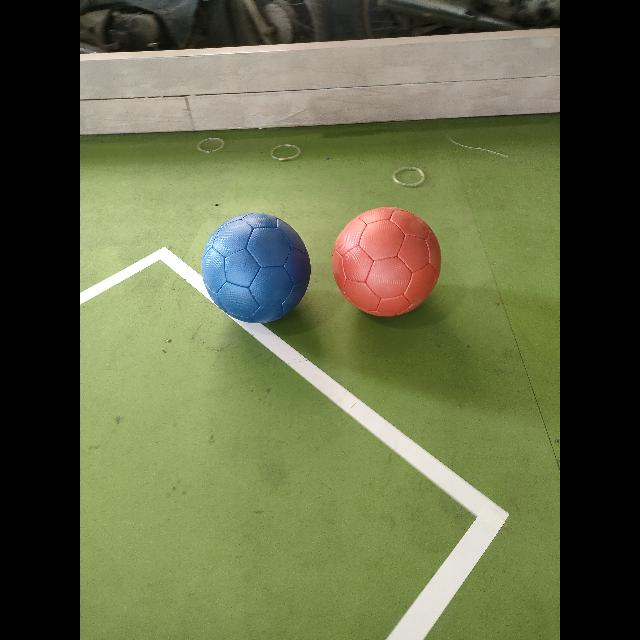B: (202, 214, 310, 322)
R: (333, 207, 441, 315)
